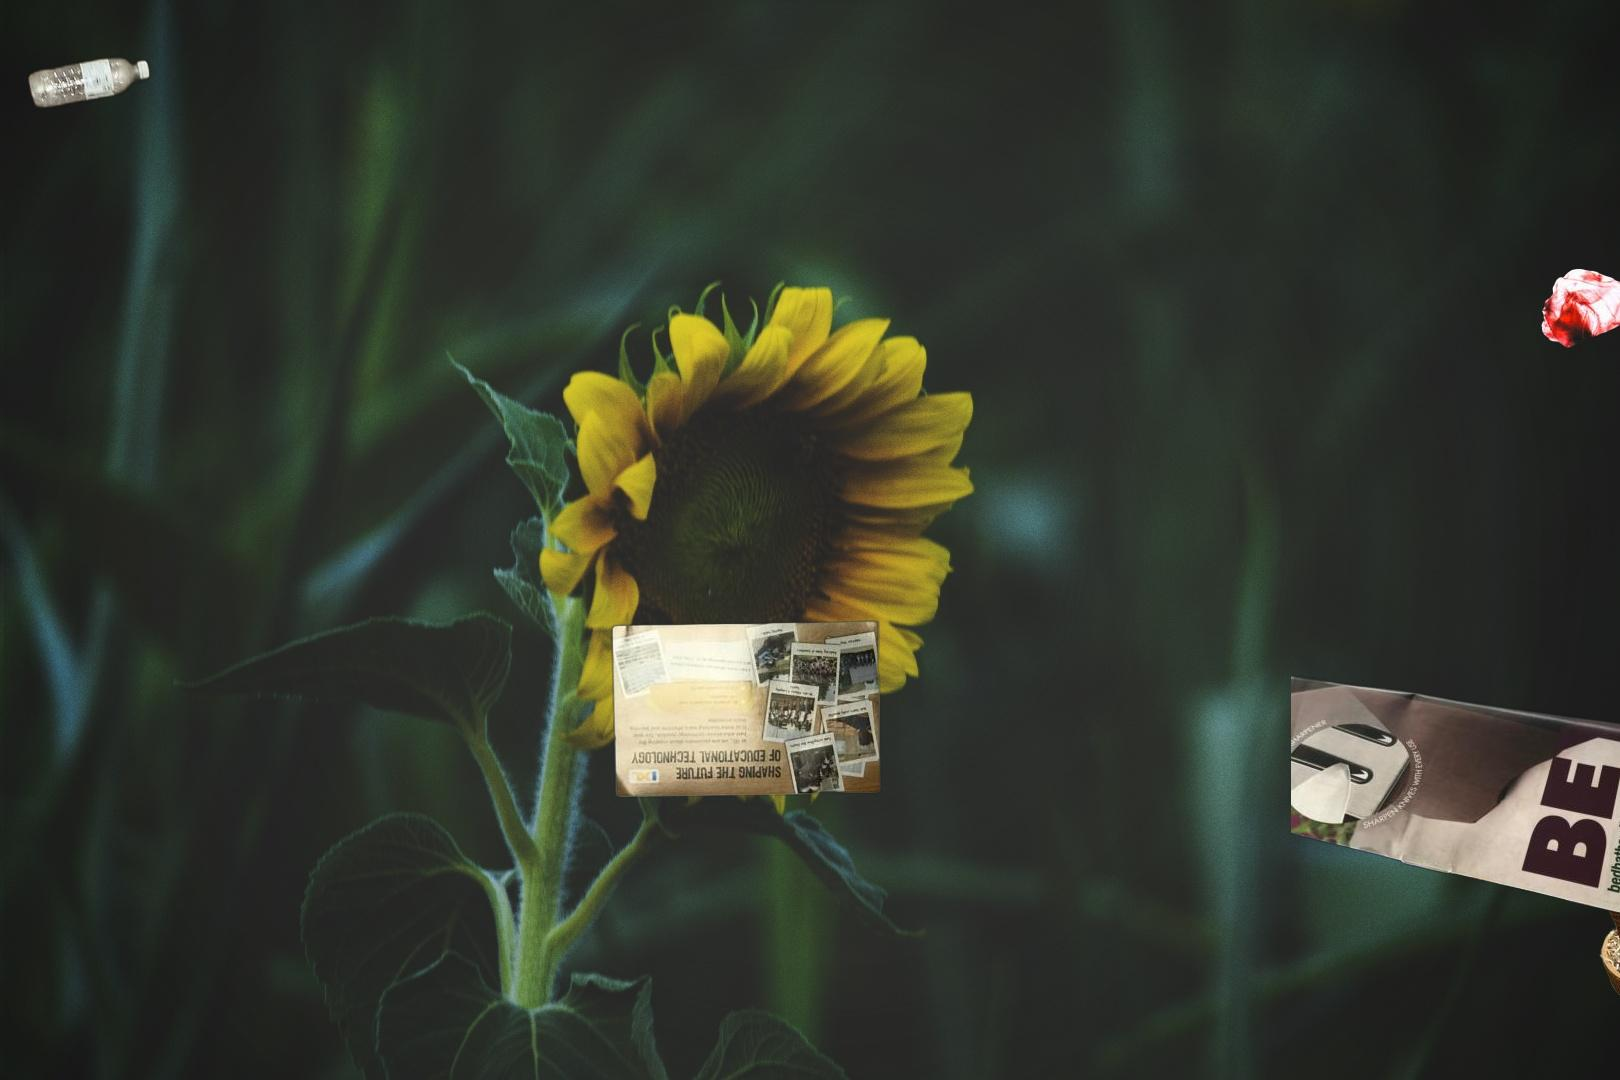paper: (1291, 673, 1620, 920), (607, 618, 885, 802)
plastic-bag: (1538, 266, 1620, 350)
plastic-bottles: (23, 49, 155, 115)
trashbox-cardboard: (1597, 767, 1620, 1058)
